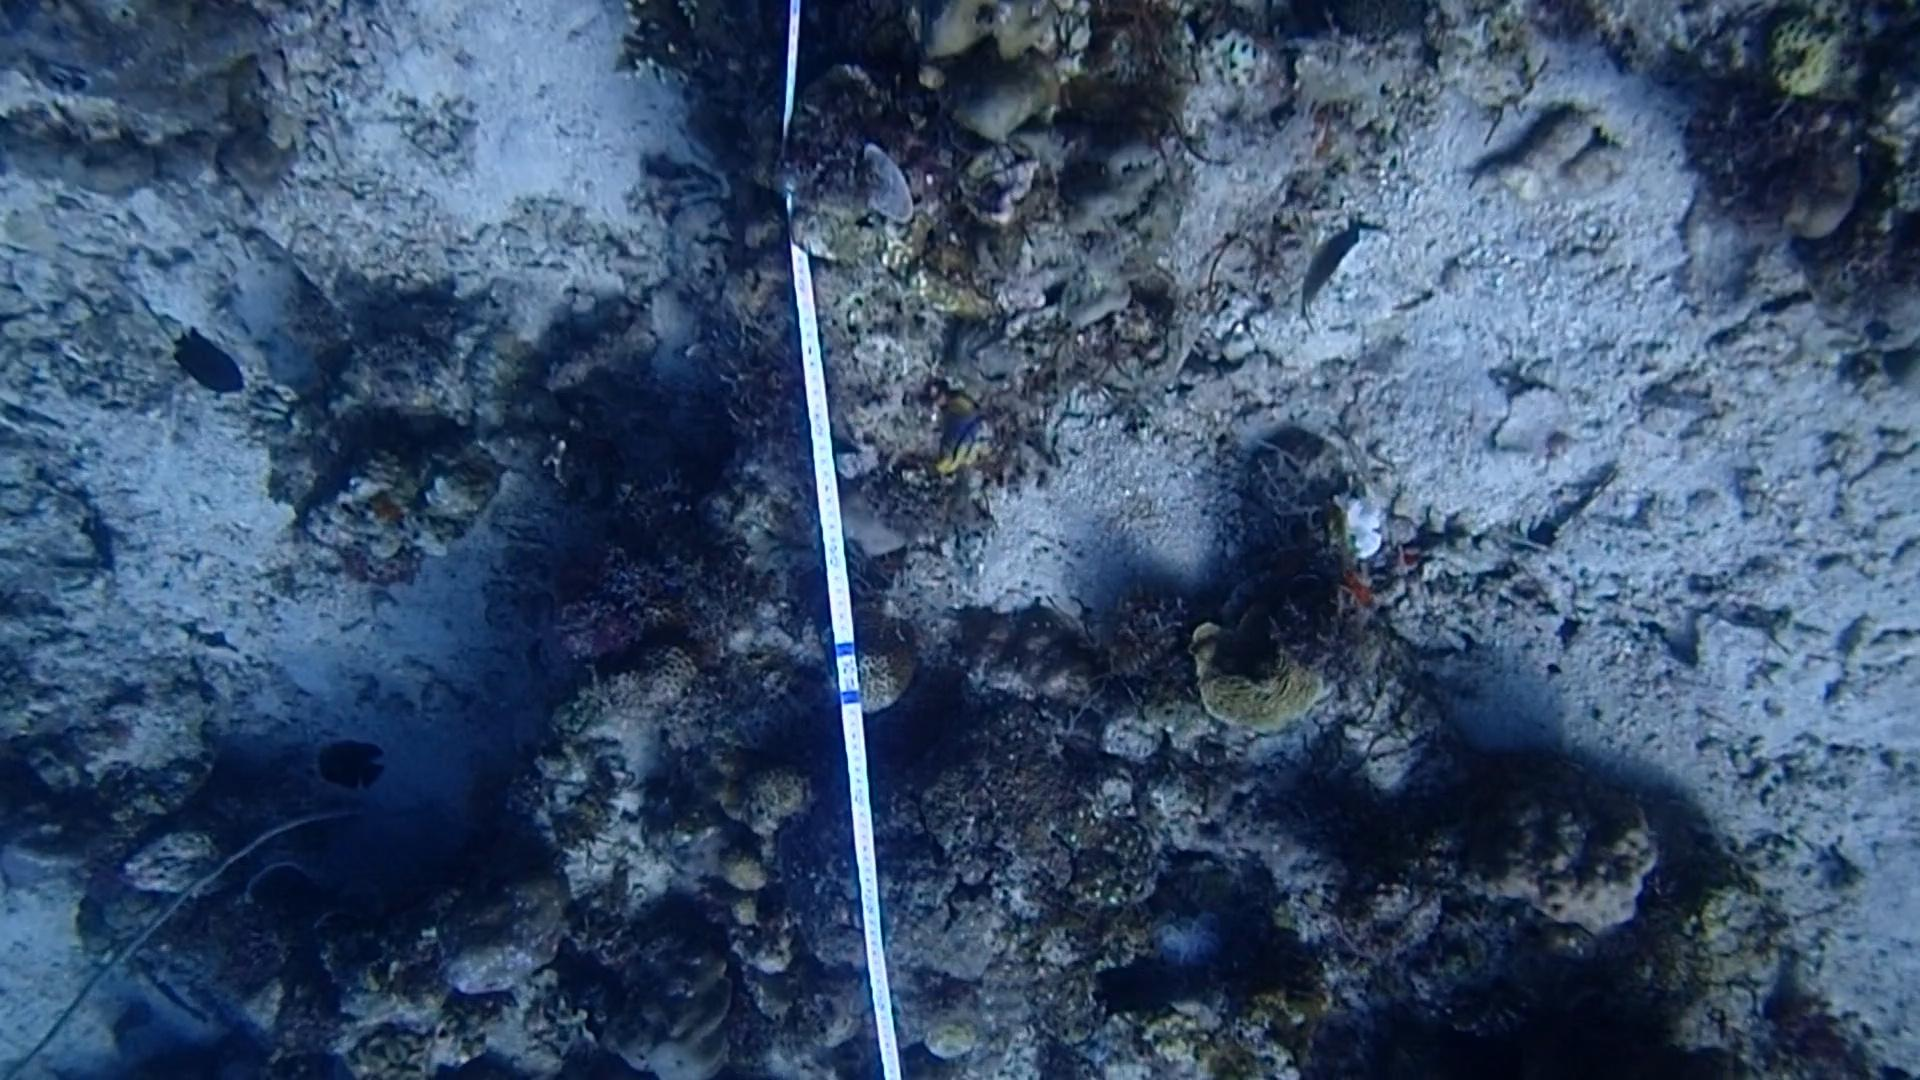Dark Fish: (1085, 951, 1187, 1030), (164, 327, 252, 405), (307, 725, 392, 802)
Light Fish: (1274, 207, 1382, 332)
